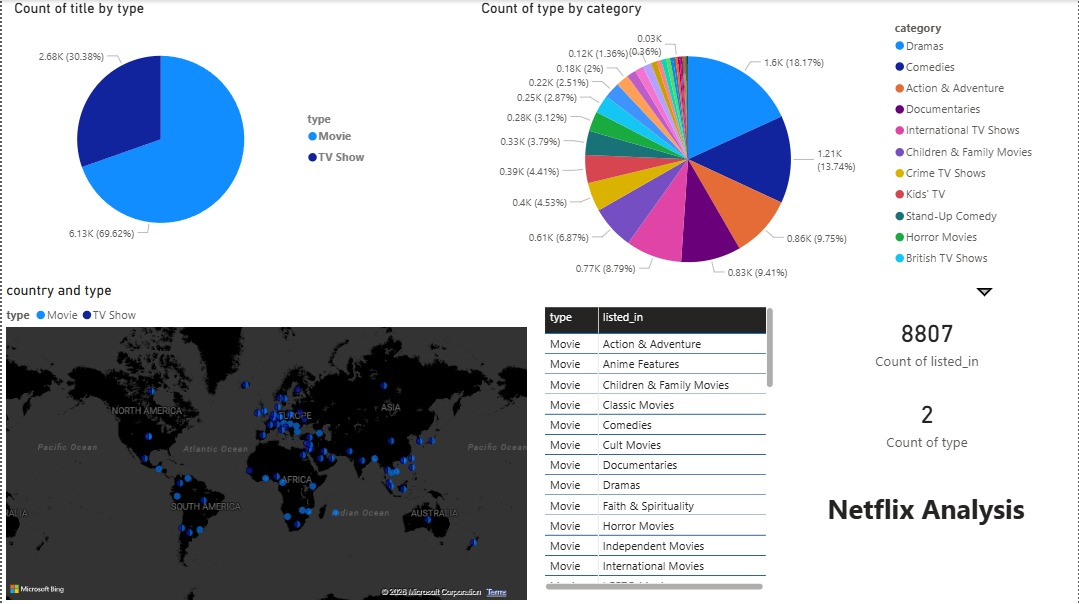

The dashboard page shown, as its layout file describes it:
{"tool":"powerbi","page":{"name":"Page 1","canvas":[1280,720],"ordinal":0},"visuals":[{"type":"pieChart","fields":{"Category":["netflix_titles.type"],"Y":["CountNonNull(netflix_titles.title)"]},"box":[9.7,0,436.8,312.7],"z":0},{"type":"map","fields":{"Category":["clean netflix.country"],"Series":["clean netflix.type"]},"box":[0,335.2,630.4,384.8],"z":1000},{"type":"pieChart","fields":{"Category":["clean netflix.Text Before Delimiter"],"Y":["CountNonNull(clean netflix.type)"]},"box":[565.7,0,714.3,360],"z":2000},{"type":"tableEx","fields":{"Values":["clean netflix.type","netflix_titles (2).listed_in"]},"box":[640,360,282.9,347.1],"z":3000},{"type":"card","fields":{"Values":["CountNonNull(netflix_titles.listed_in)"]},"box":[922.9,360,357.1,90],"z":4000},{"type":"card","fields":{"Values":["Count(netflix_titles.type)"]},"box":[922.9,450,357.1,104.3],"z":5000},{"type":"textbox","box":[923,554,357,153],"z":6000},{"type":"textbox","box":[977.1,577.1,255.7,62.9],"z":7000}]}

Visuals, with their boxes in screenshot pixels (x1, y1, x2, y2), scaled from the page's 1280x720 canvas onto the 1079x604 screenshot:
pieChart - netflix_titles.type x CountNonNull(netflix_titles.title): 8 0 376 262
map - clean netflix.country x clean netflix.type: 0 281 531 603
pieChart - clean netflix.Text Before Delimiter x CountNonNull(clean netflix.type): 477 0 1078 302
tableEx - clean netflix.type x netflix_titles (2).listed_in: 540 302 778 593
card - CountNonNull(netflix_titles.listed_in): 778 302 1078 378
card - Count(netflix_titles.type): 778 378 1078 465
textbox: 778 465 1078 593
textbox: 824 484 1039 537
